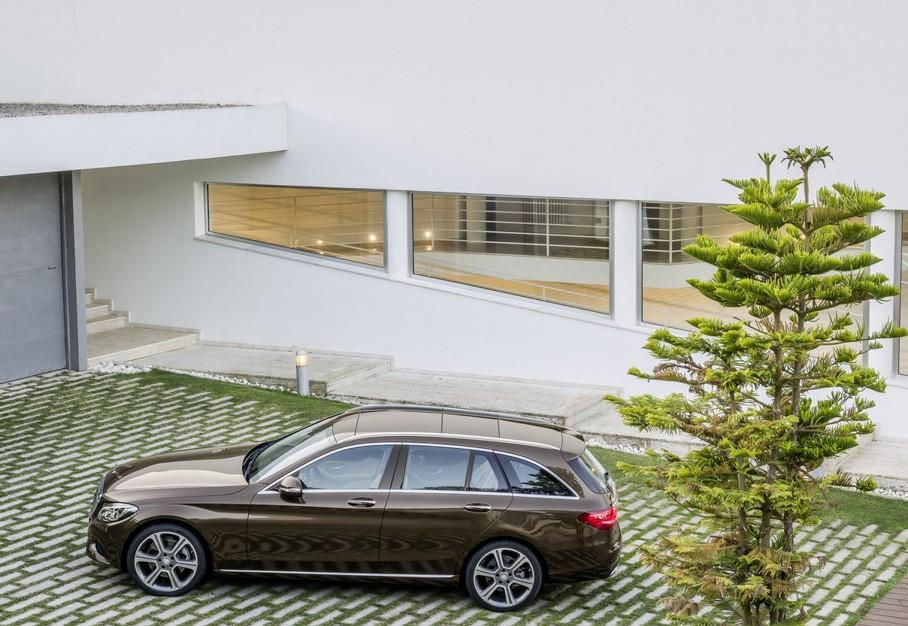Wagon: (85, 404, 622, 613)
